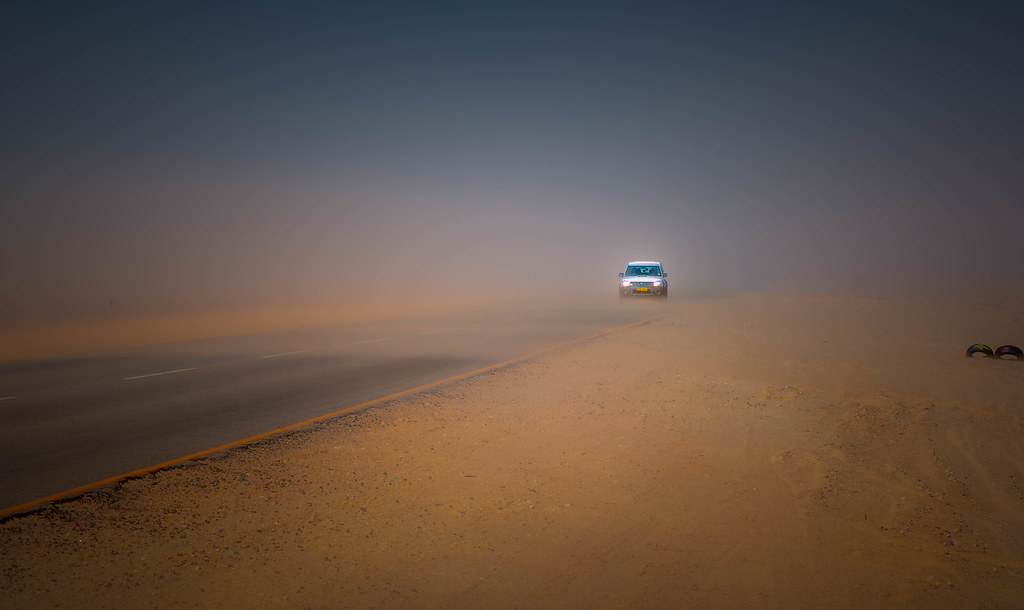car: (617, 261, 668, 297)
